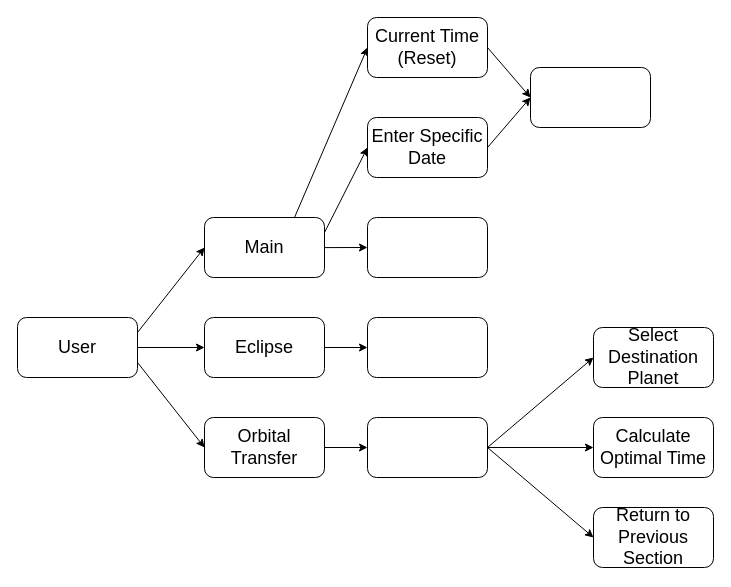
This 731x587 diagram has some shape labels left out. The centre of each missing label's shape, as x and y in pixels:
Custom Scroll Time: (x=590, y=97)
Next Lunar Eclipse: (x=427, y=347)
Panning/ Zooming: (x=427, y=247)
Planetary Launch Time Calculator: (x=427, y=447)
